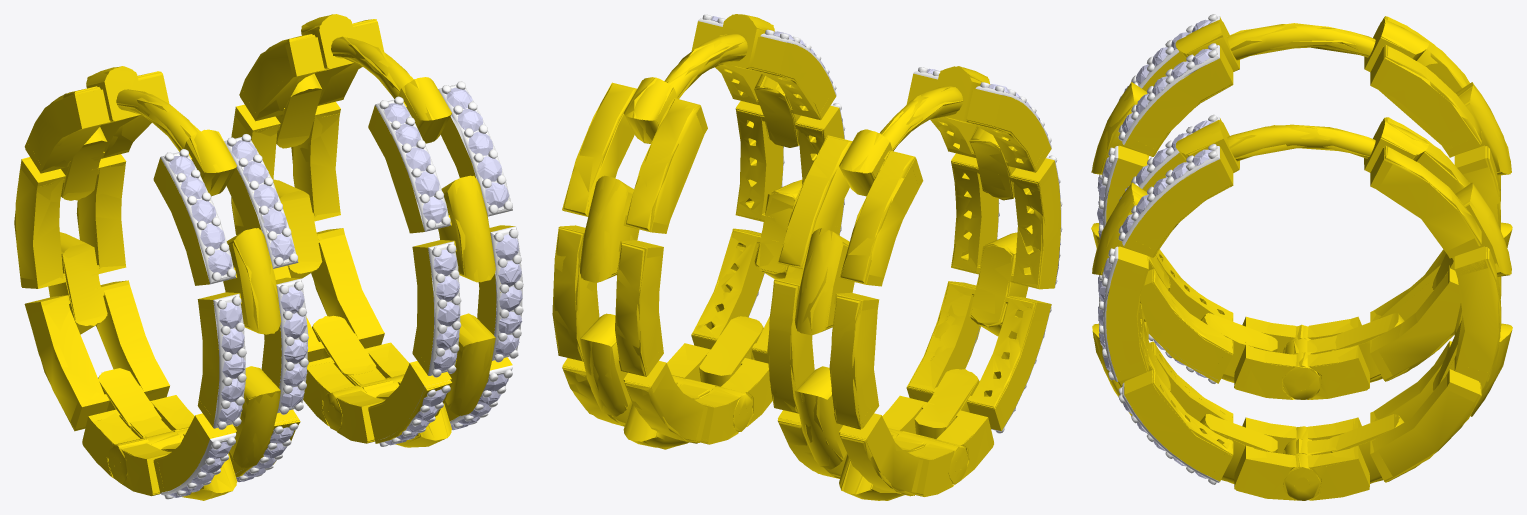
The picture shows the model from 3 angles, left to right: view 1: azimuth 30°, elevation 25°; view 2: azimuth 150°, elevation 25°; view 3: azimuth 270°, elevation 25°; orthographic projection. The views are drawn at different scales.
Parts seen in each view (by area): view 1: highPolyMesh, lowPolyMesh; view 2: highPolyMesh, lowPolyMesh; view 3: highPolyMesh, lowPolyMesh.
Boxes of the visible parts, bbox=[...] form: highPolyMesh: bbox=[15, 14, 523, 499]; lowPolyMesh: bbox=[14, 14, 523, 500]; highPolyMesh: bbox=[553, 14, 1062, 500]; lowPolyMesh: bbox=[552, 14, 1062, 500]; highPolyMesh: bbox=[1092, 14, 1512, 500]; lowPolyMesh: bbox=[1091, 14, 1512, 500].
Size of the model in its own units: 0.0152 by 0.0184 by 0.0191.
